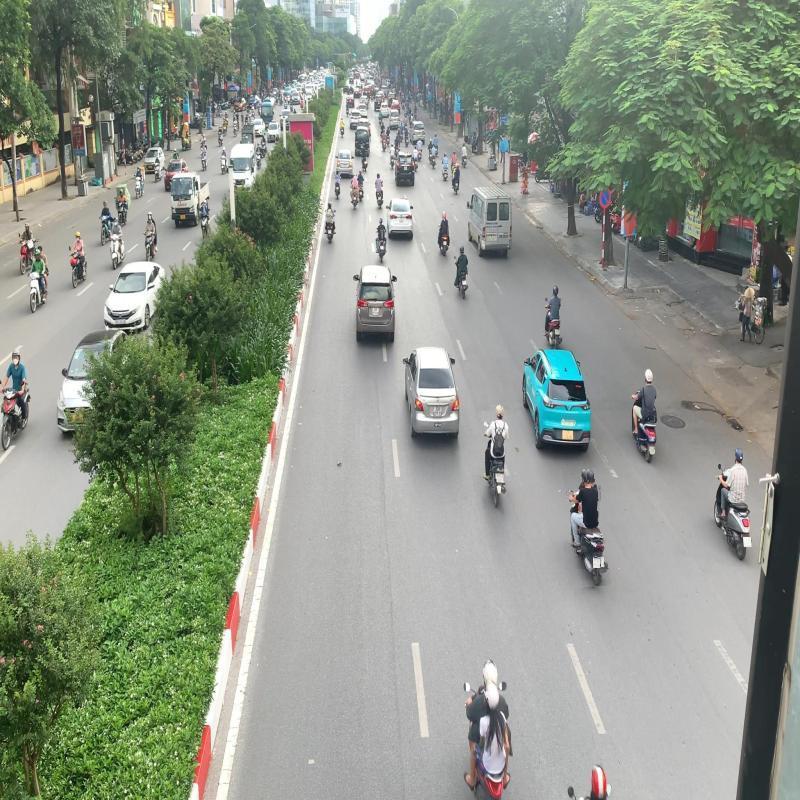helmet: (585, 468, 595, 484), (494, 404, 504, 420)
licenseplate: (594, 557, 602, 568), (496, 473, 504, 483)
motorcyclist: (566, 469, 608, 588), (484, 405, 510, 509)
